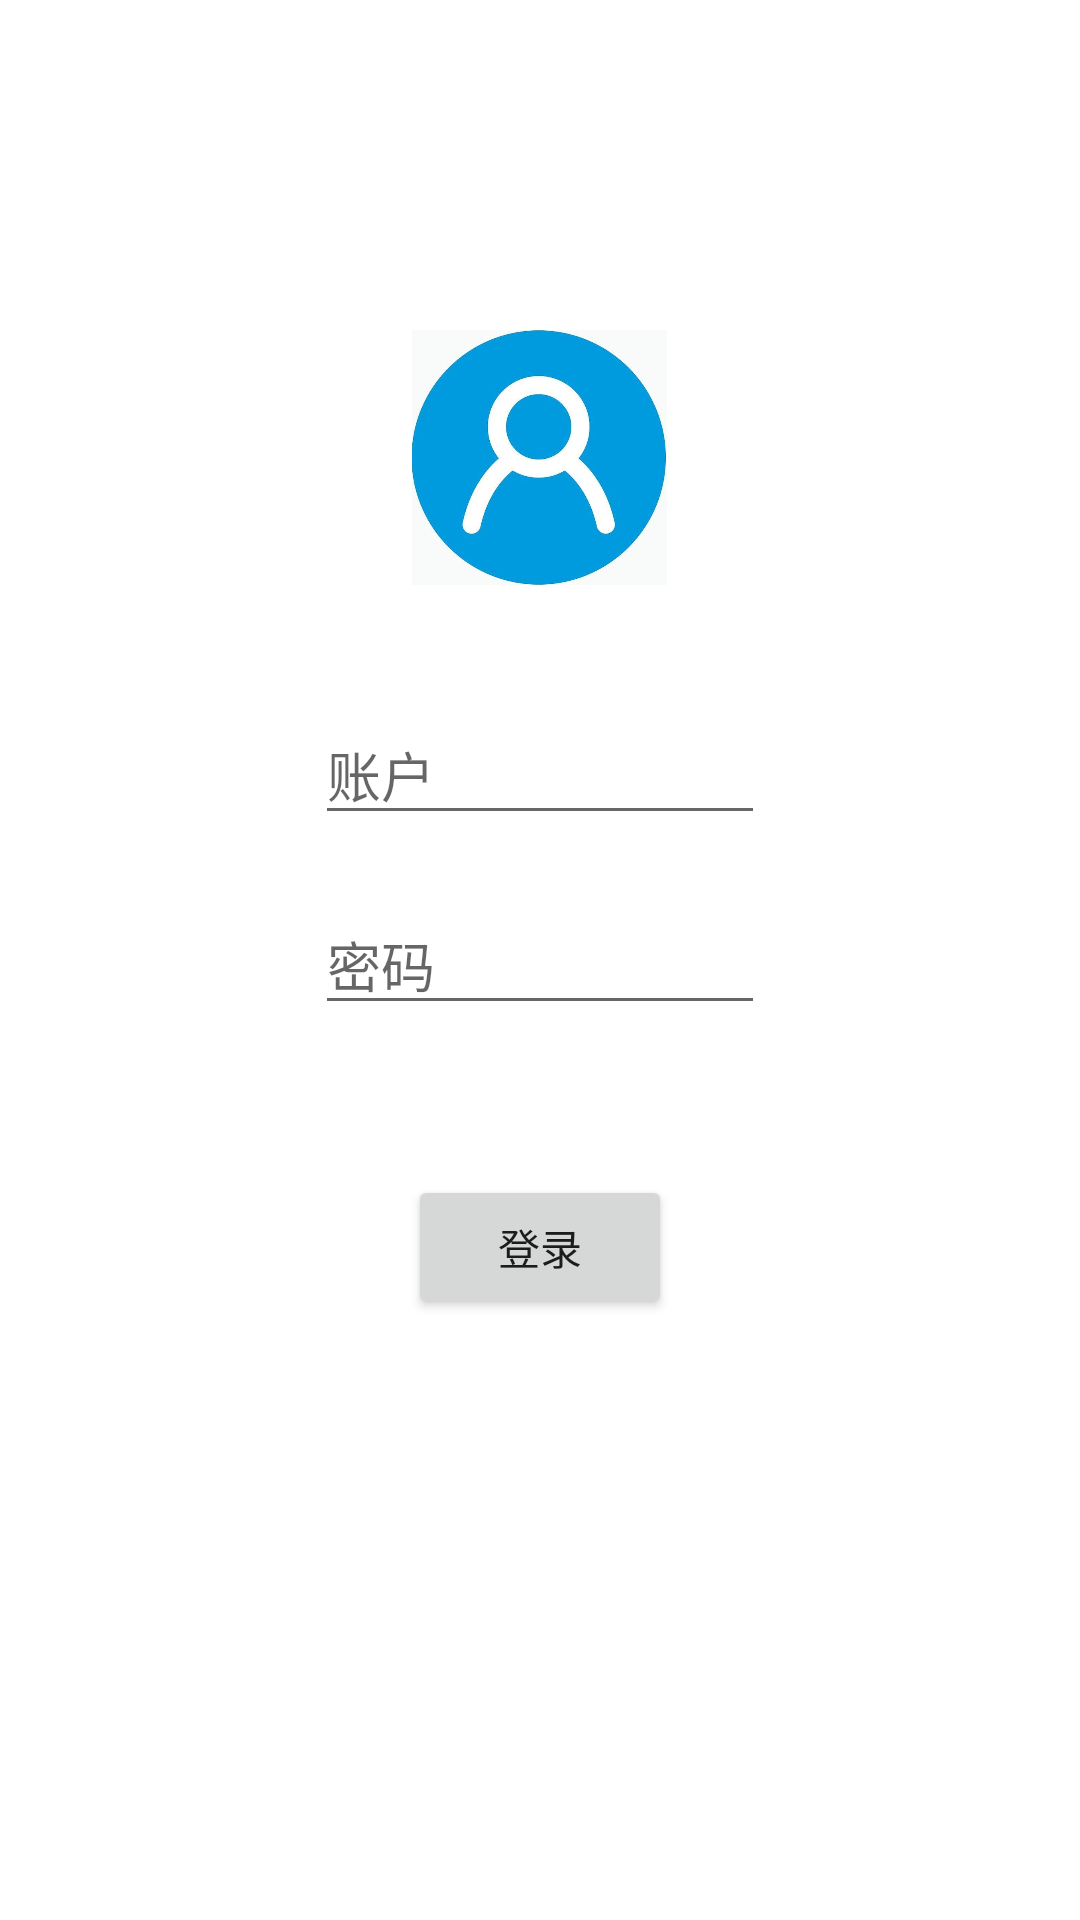

Where to tap for icons on this 1080x1920 app screen, as [x,y]:
users: [539,457]
